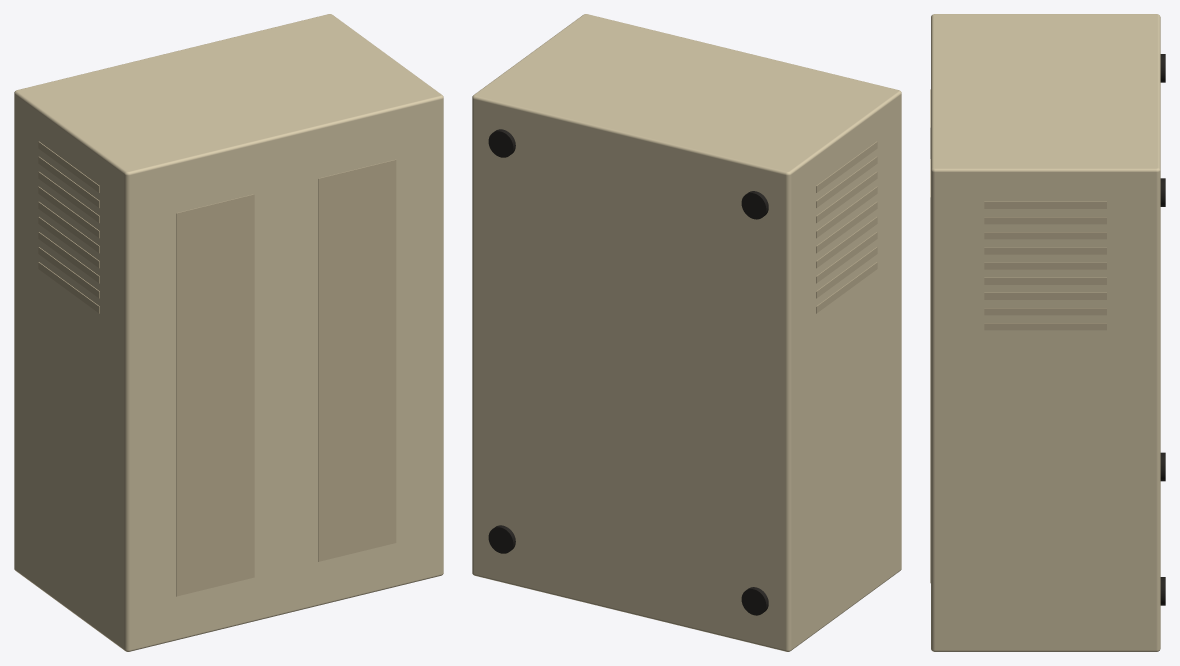
File: DiskII.obj
3 renders of one model, left to right at view 1: azimuth 30°, elevation 25°; view 2: azimuth 150°, elevation 25°; view 3: azimuth 270°, elevation 25°, orthographic.
Bounding box in the file's own units: 156 × 223 × 98.54.
